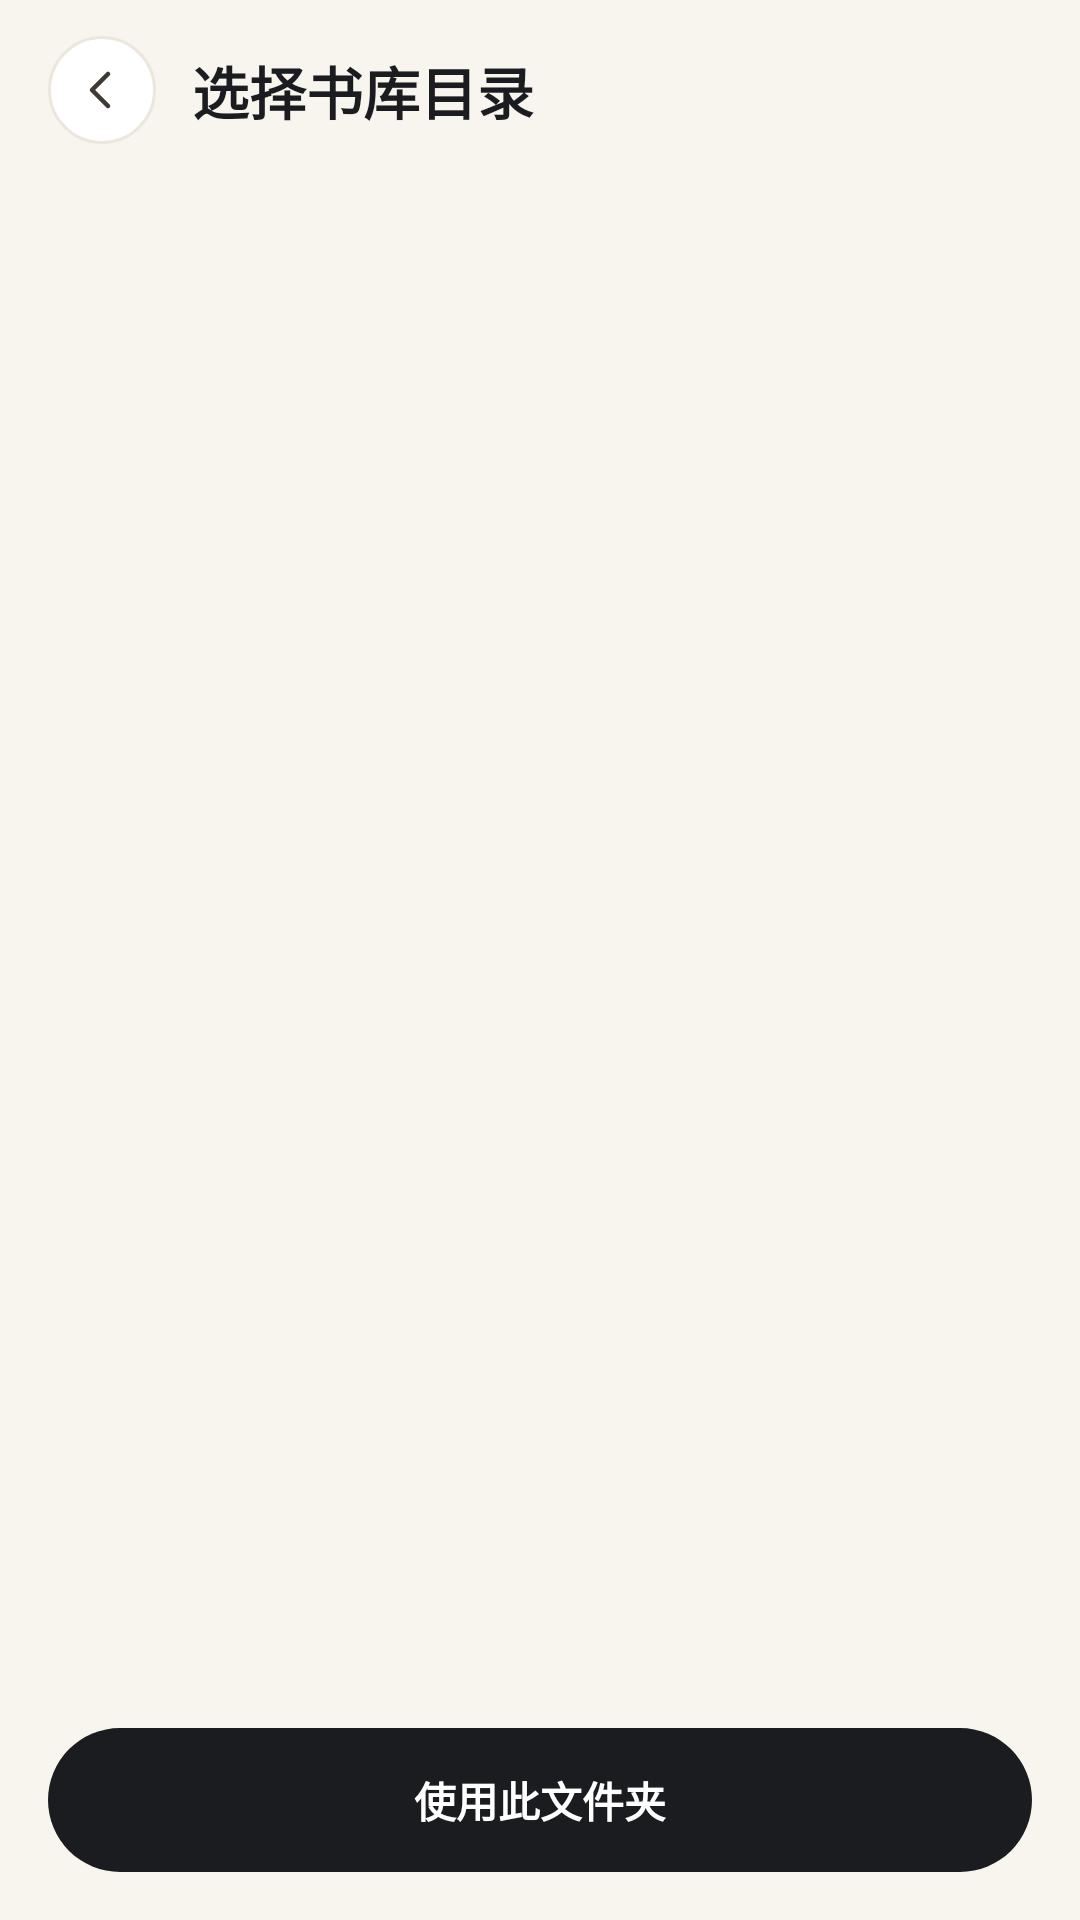

Icon bounding boxes for this 1080 × 1920 phone screenshot, format (x1, y1, x2, y2):
返回: (48, 36, 156, 144)
